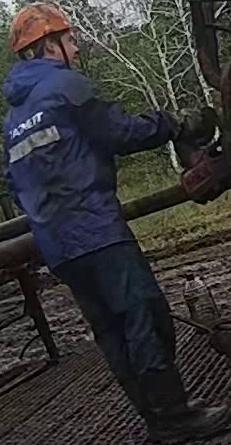gloves: (154, 107, 215, 145)
helmet: (8, 1, 75, 53)
vest: (1, 58, 137, 271)
